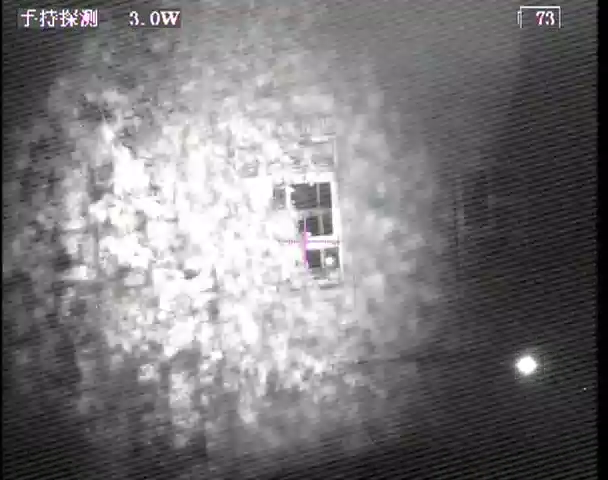my: (323, 253, 337, 266)
